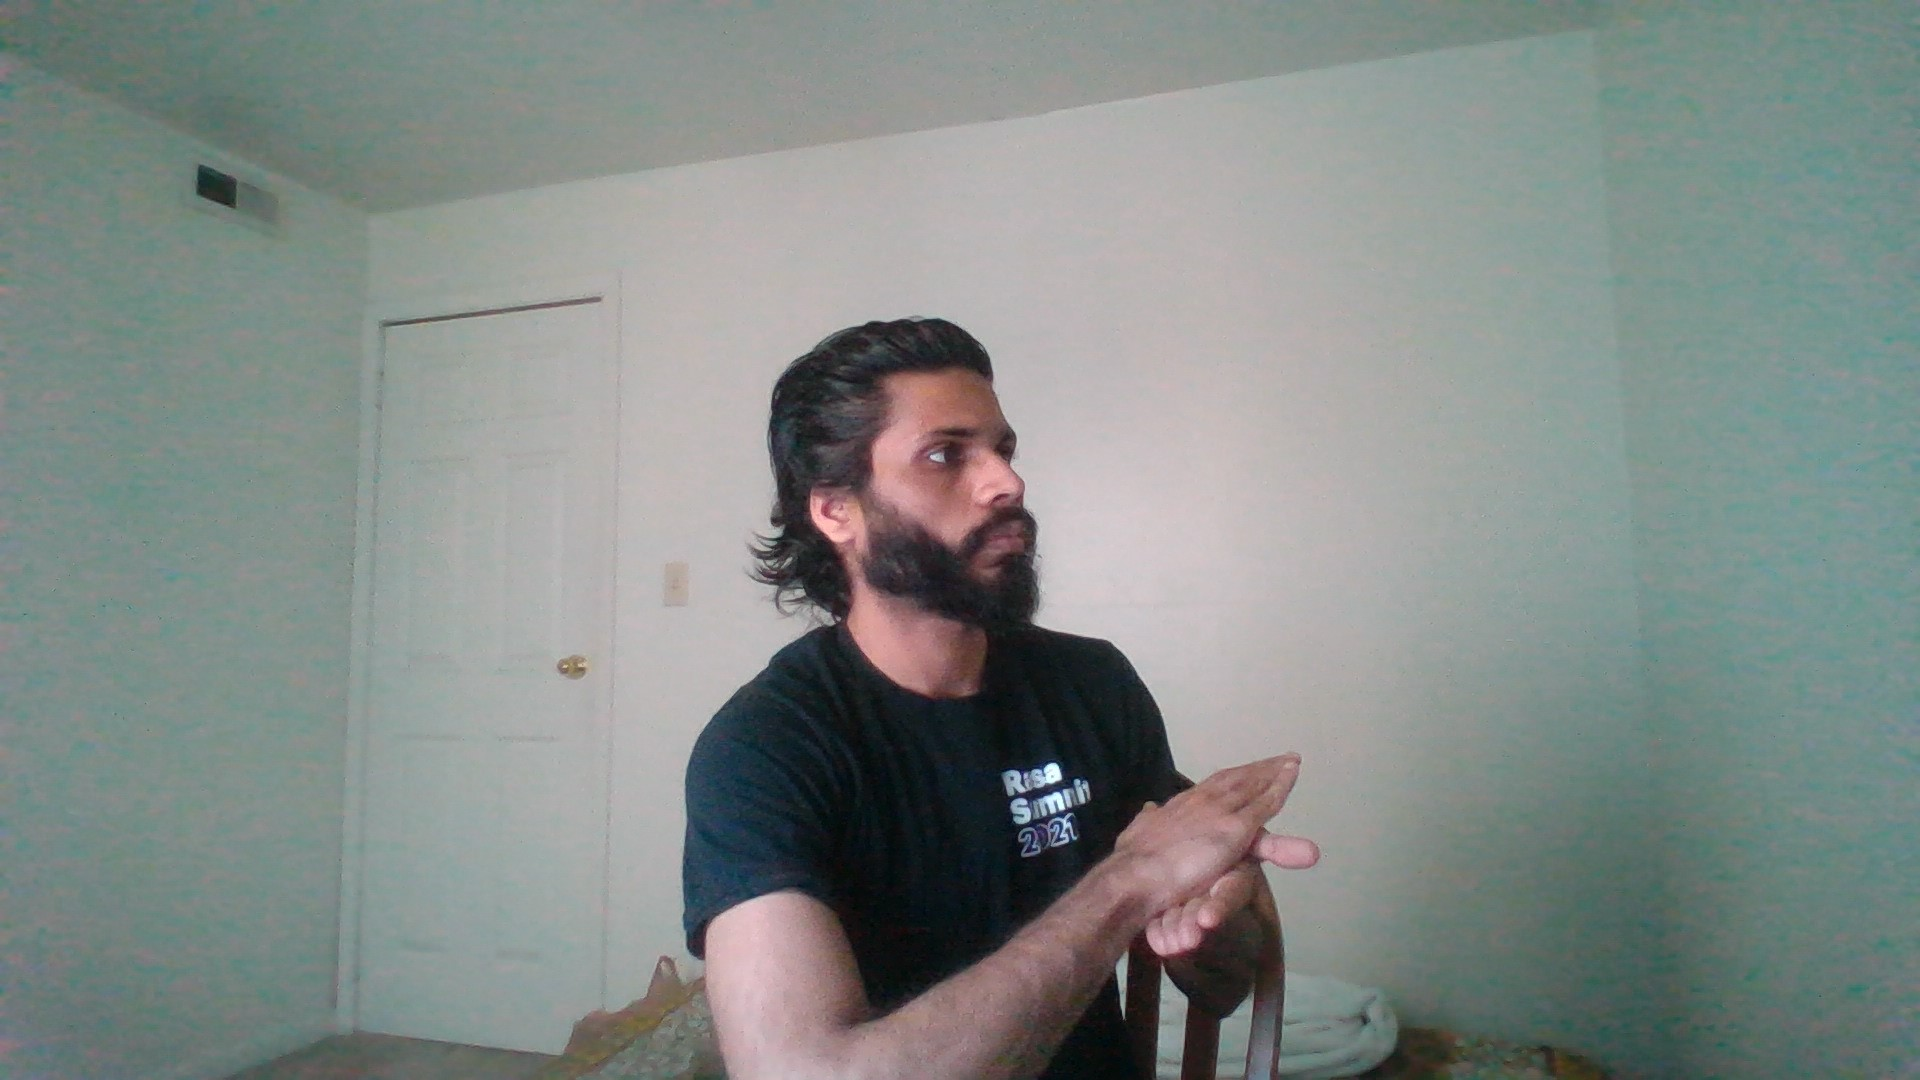Cheese: (1021, 753, 1408, 978)
